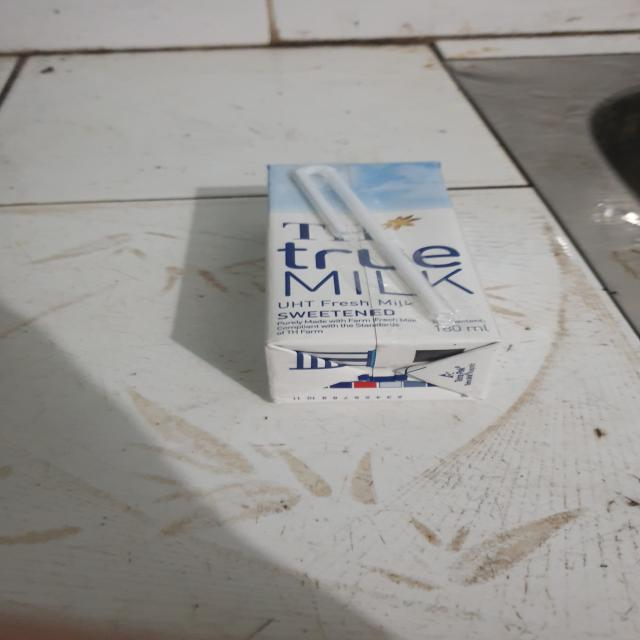TH: (265, 163, 505, 407)
